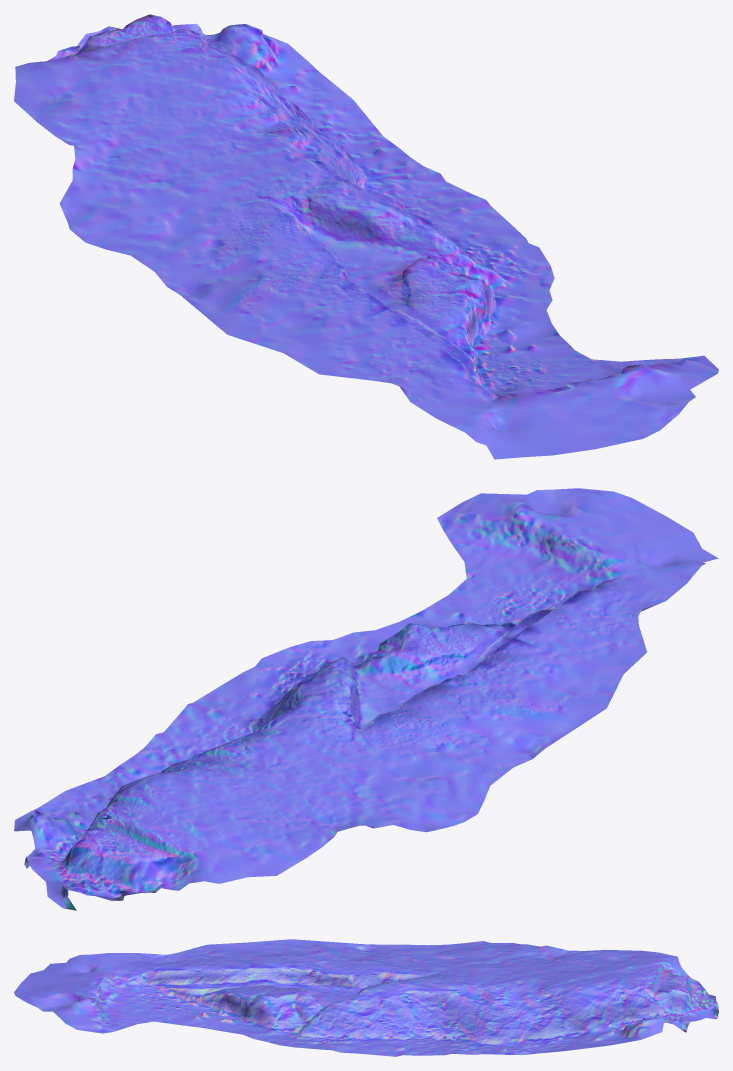
The model's file is RockFormation003 Moss Variant.fbx.
3 renders of one model, top to bottom at view 1: azimuth 30°, elevation 25°; view 2: azimuth 150°, elevation 25°; view 3: azimuth 270°, elevation 25°, orthographic. The views are drawn at different scales.
Parts seen in each view (by area): view 1: RockFormation03_LOD0; view 2: RockFormation03_LOD0; view 3: RockFormation03_LOD0.
Part boxes in pixels (x1,y1,x2,y2): RockFormation03_LOD0: (14,14,718,459); RockFormation03_LOD0: (14,488,718,910); RockFormation03_LOD0: (14,939,718,1056).
Size of the model in its own units: 1675 by 328 by 4622.
